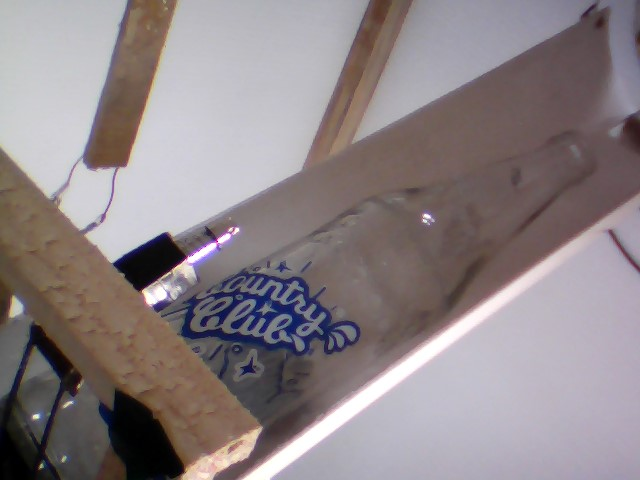vidrio: (166, 125, 602, 424)
